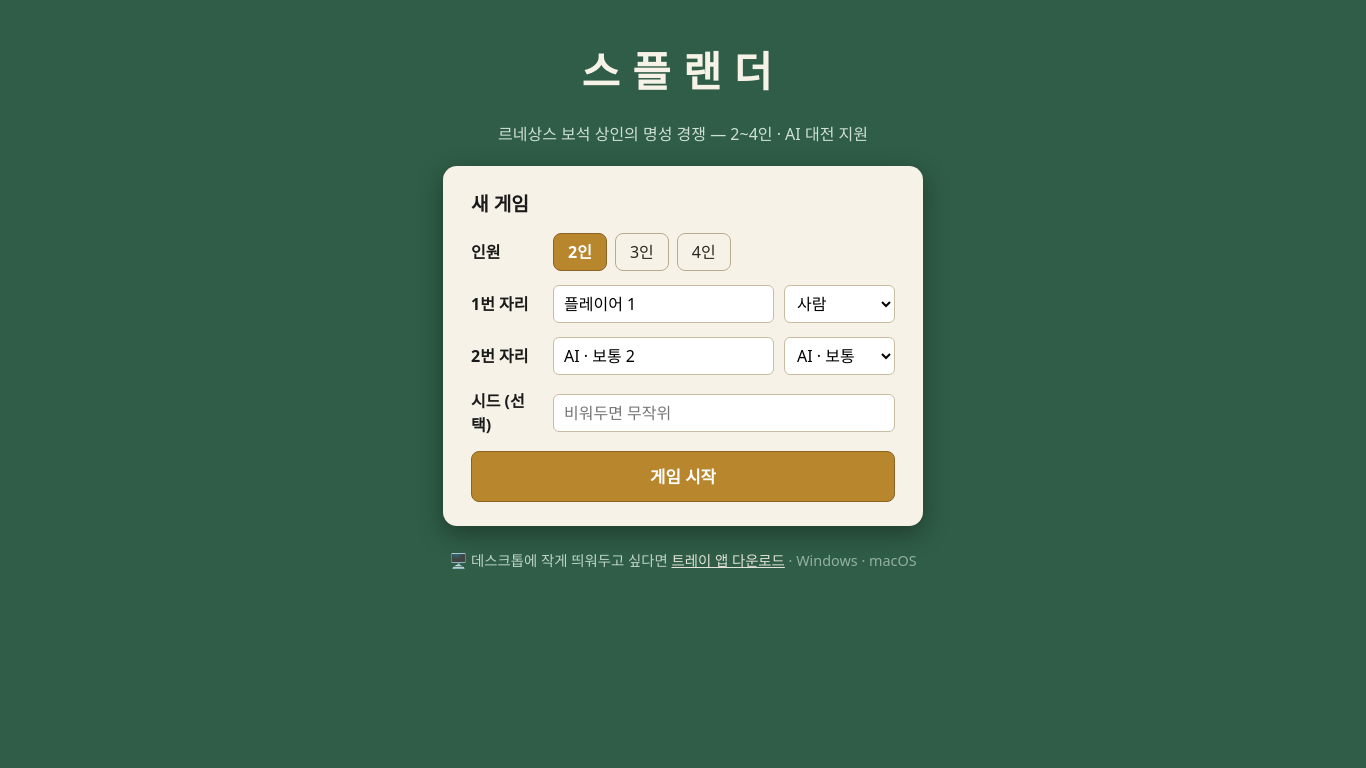
Scenario: UI 스모크 › 셋업 → 게임 시작 → 첫 플레이어의 차례 배너가 뜬다
Expected: the heading "스플랜더" is shown, top-left (582, 40), bottom-right (784, 102)
Replace the text in the field labelled "1번 자리" with "철수": (664, 304) top-left (553, 285), bottom-right (774, 323)
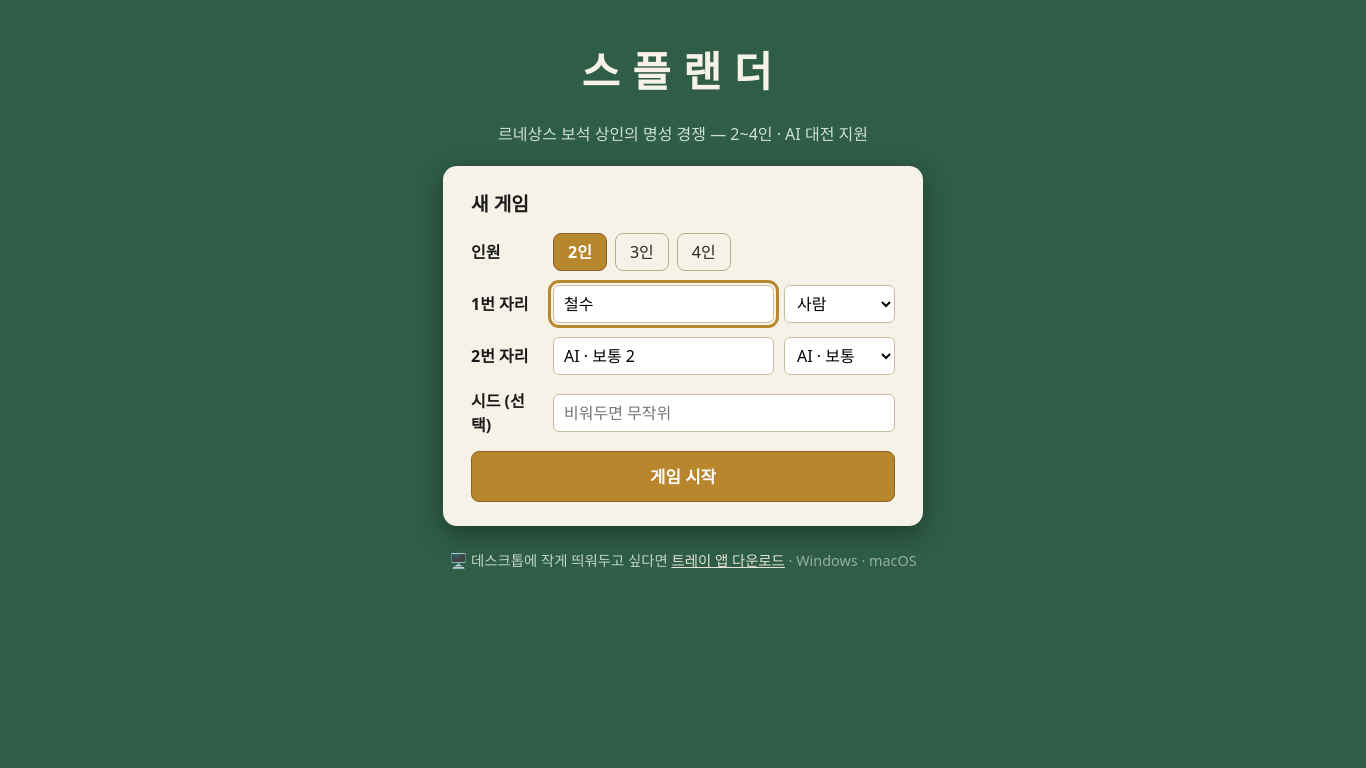
In the field labelled "시드 (선택)": (724, 413) top-left (553, 394), bottom-right (895, 432), type "42"
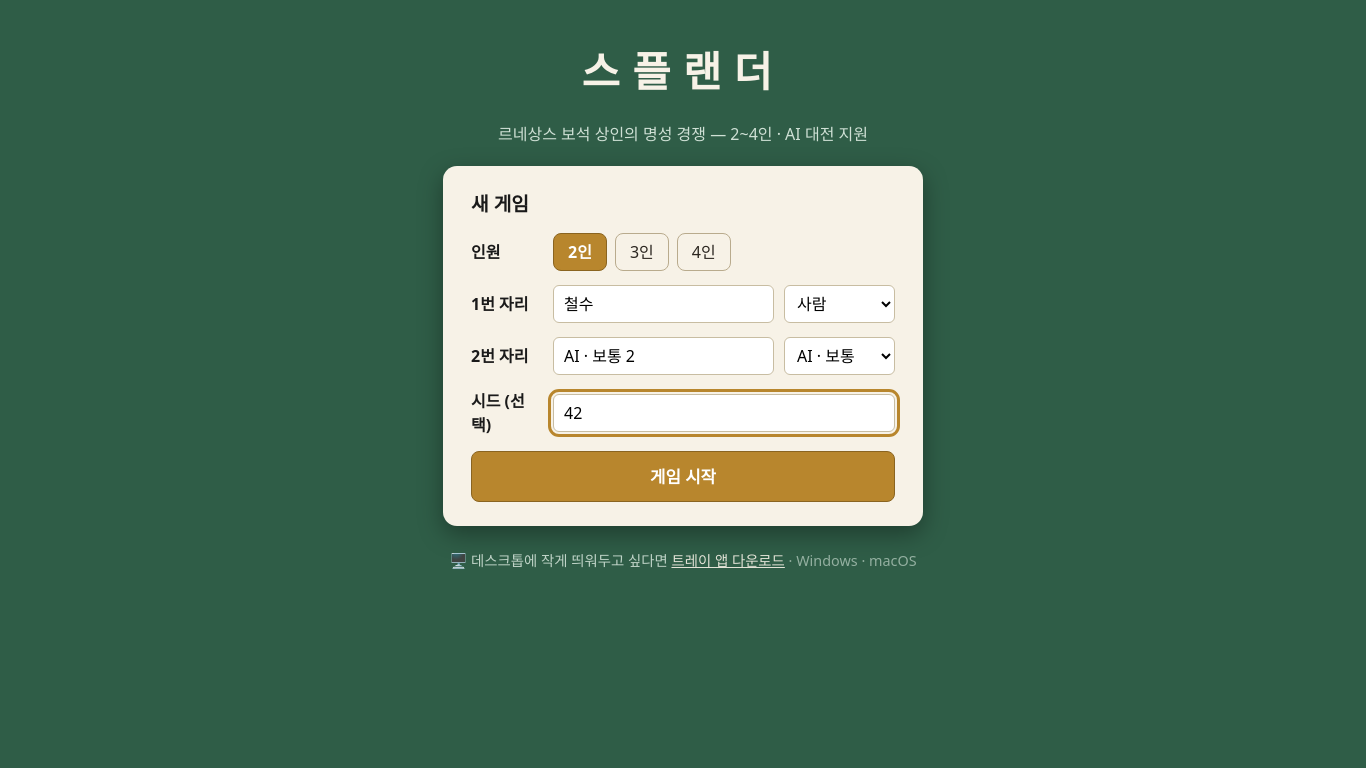
Click the button "게임 시작": (683, 477) top-left (471, 451), bottom-right (895, 502)
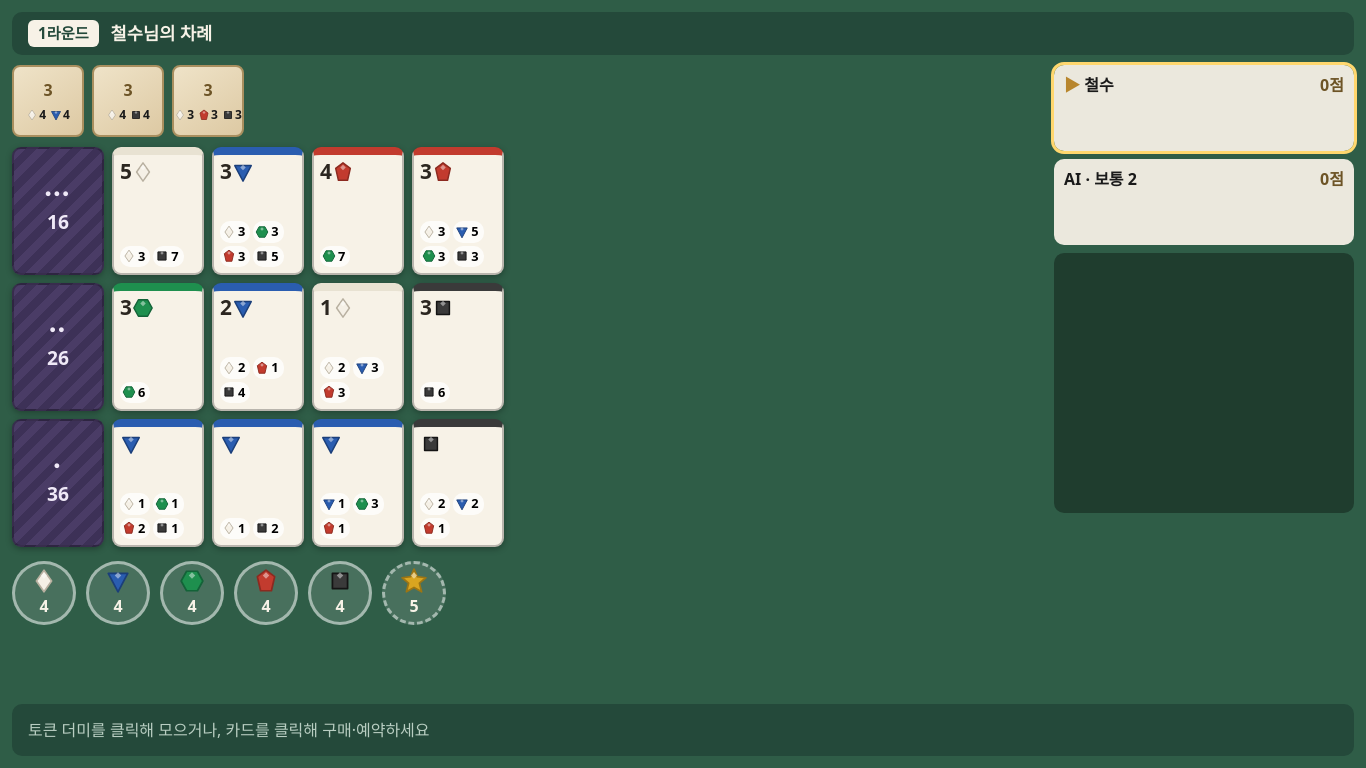
Expected: the text "님의 차례" is shown, top-left (143, 21), bottom-right (212, 45)
Expected: the element named "토큰 공급처" is shown, top-left (12, 561), bottom-right (446, 625)
